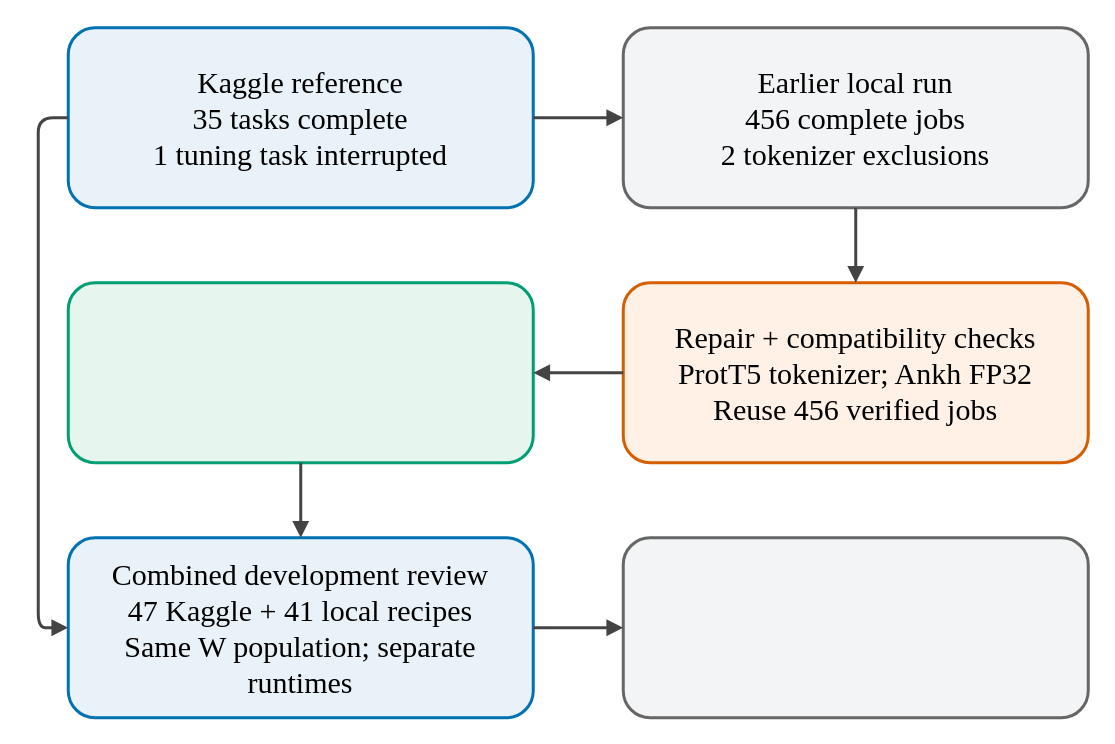
This 1115x744 diagram has some shape labels left out. The centre of each missing label's shape, as x and y in pixels:
Completed local successor 633 complete; 2 pending inputs 9 pLMs; 60 tuning fits: (300,372)
Still required External / structure inputs Serving refit, export and acceptance: (855,627)
